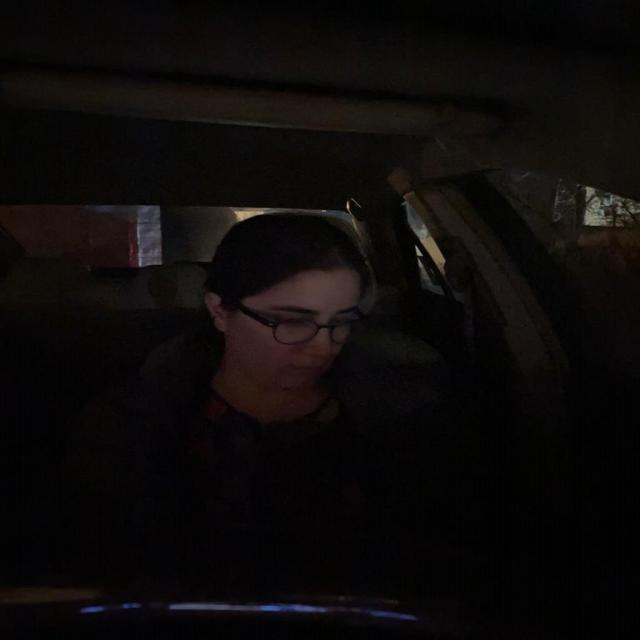person: (187, 204, 398, 404)
